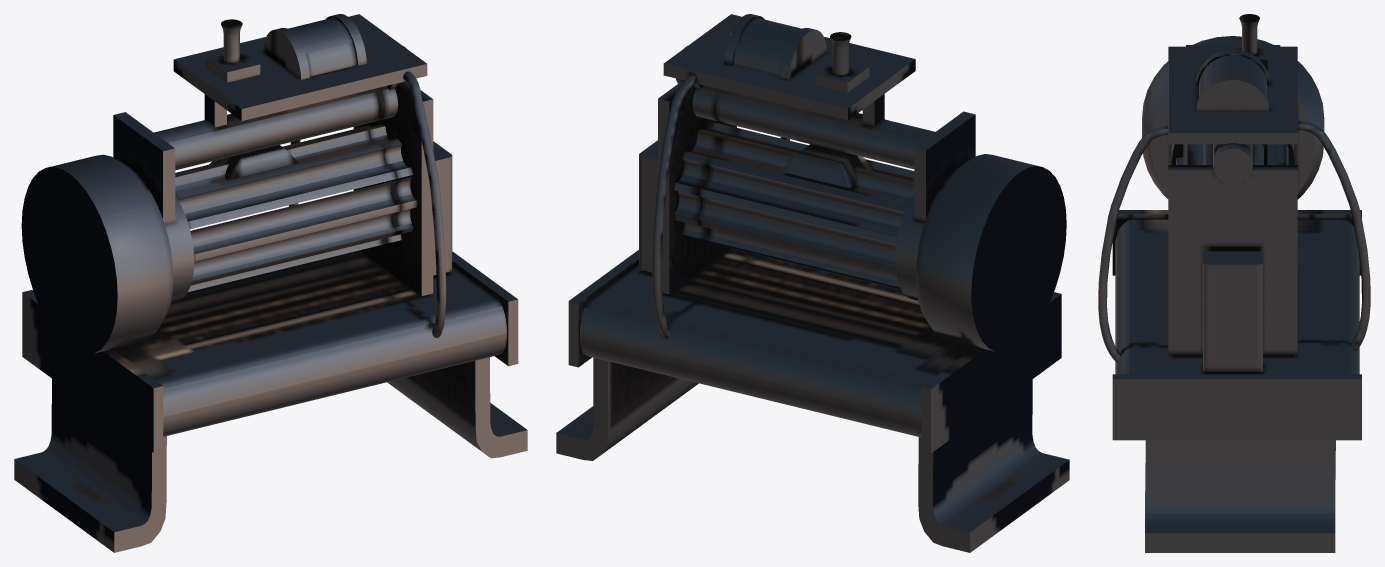
File: dianzi_1.glb
3 views of the same model, side by side, from view 1: azimuth 30°, elevation 25°; view 2: azimuth 150°, elevation 25°; view 3: azimuth 270°, elevation 25° (orthographic). The views are drawn at different scales.
Parts seen in each view (by area): view 1: 元件_1; view 2: 元件_1; view 3: 元件_1.
Boxes of the visible parts, bbox=[...] form: 元件_1: bbox=[14, 14, 527, 552]; 元件_1: bbox=[556, 14, 1069, 552]; 元件_1: bbox=[1098, 14, 1370, 552].
Size of the model in its own units: 2.06 by 2.11 by 1.23.
1 material, 1 textured.
